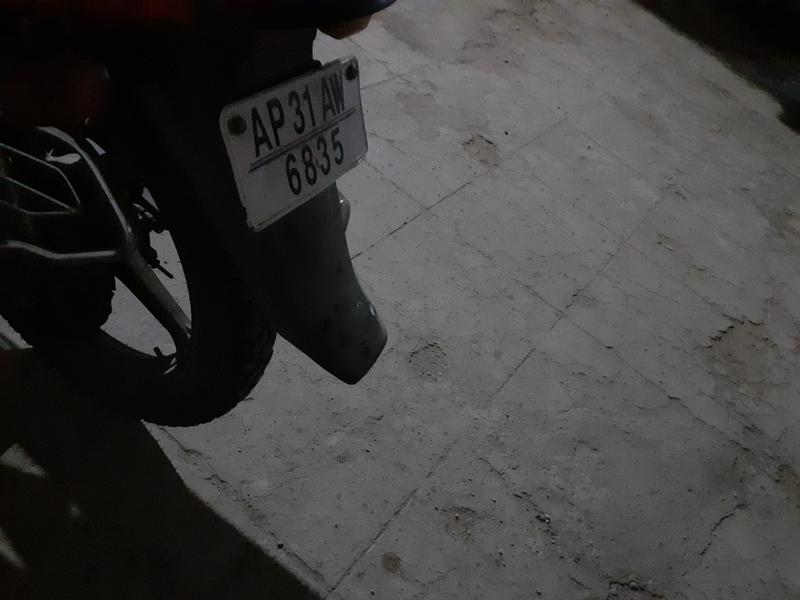numberplate: (200, 59, 384, 222)
